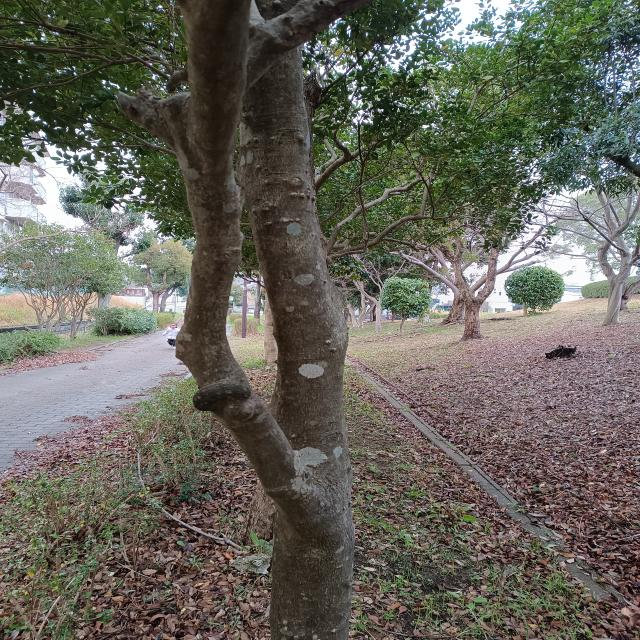Branch: (176, 0, 297, 499), (237, 45, 348, 459)
Twig: (248, 0, 368, 78)
